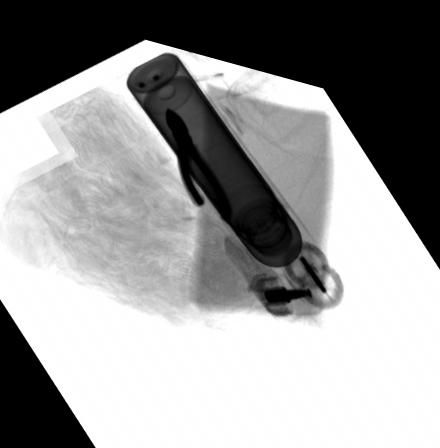Pliers: (162, 97, 231, 212)
